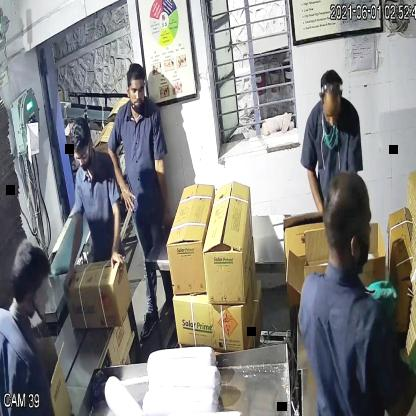goggles: (71, 142, 95, 168)
no_goggles: (125, 79, 148, 102)
